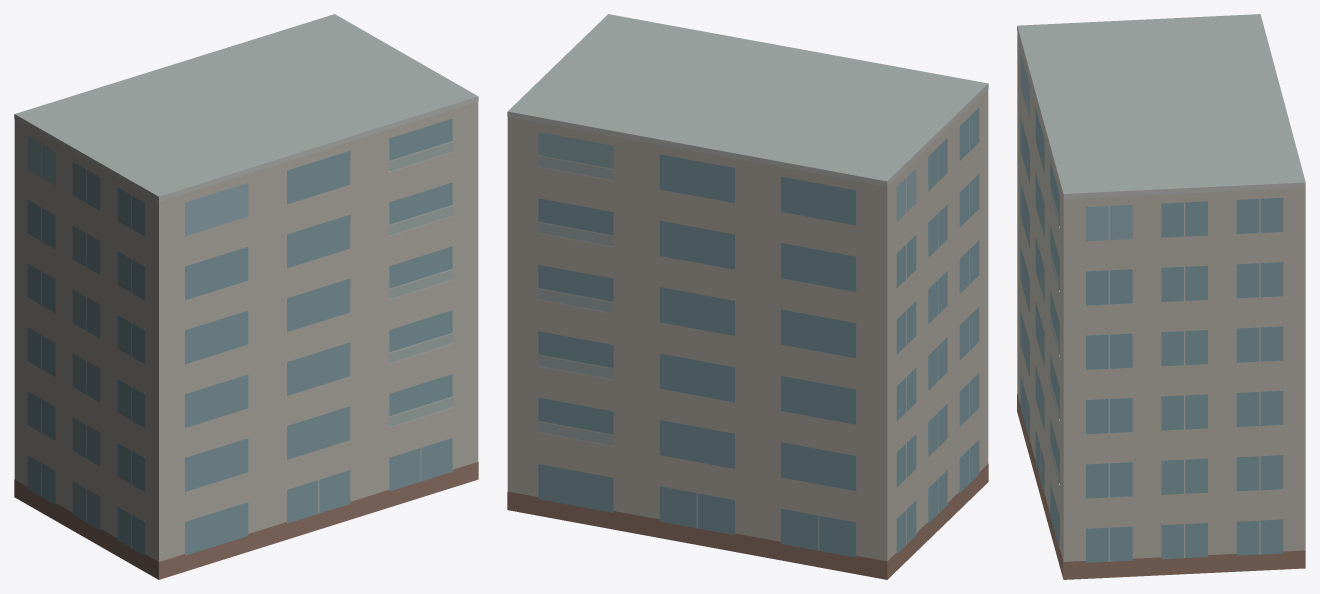
Rendered from survey-upis-32736691.glb.
The picture shows the model from 3 angles, left to right: view 1: azimuth 30°, elevation 25°; view 2: azimuth 150°, elevation 25°; view 3: azimuth 270°, elevation 25°; orthographic projection. The views are drawn at different scales.
Parts seen in each view (by area): view 1: survey-upis-32736691.tmp; view 2: survey-upis-32736691.tmp; view 3: survey-upis-32736691.tmp.
Boxes of the visible parts, bbox=[...] form: survey-upis-32736691.tmp: bbox=[14, 14, 478, 579]; survey-upis-32736691.tmp: bbox=[507, 14, 988, 579]; survey-upis-32736691.tmp: bbox=[1017, 14, 1305, 579].
Bounding box in the file's own units: 18.31 × 18.3 × 12.41.
